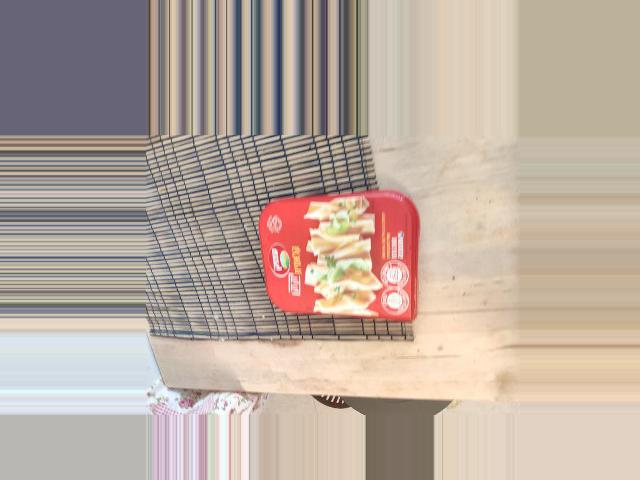cheese: (260, 203, 425, 312)
